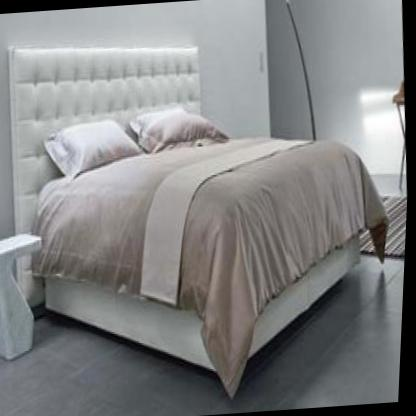Bed: (0, 23, 379, 390)
